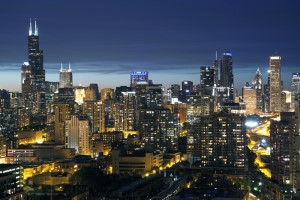willis: (23, 7, 47, 94)
